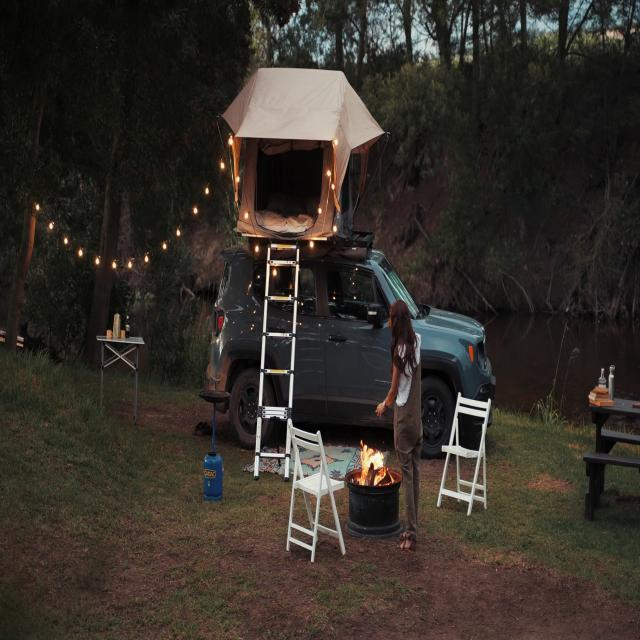Fire: (354, 433, 390, 487)
